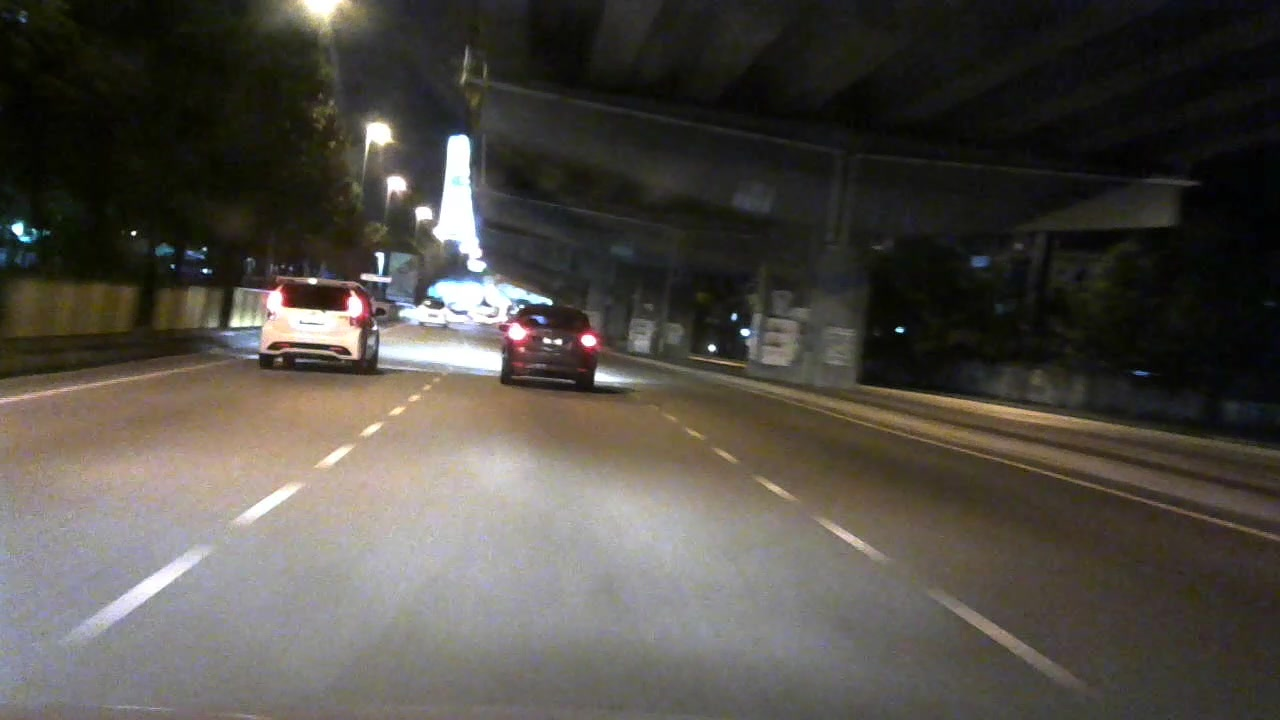Car: (256, 272, 384, 377), (496, 302, 605, 394), (412, 293, 447, 334)
